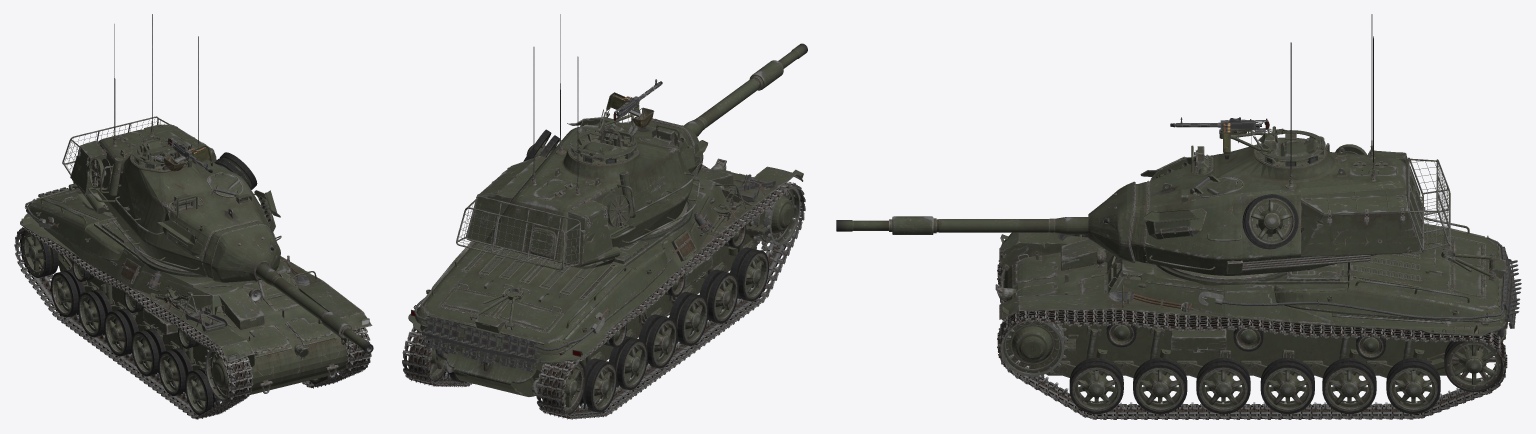
Rendered from Strv_74.obj.
3 views of the same model, side by side, from view 1: azimuth 30°, elevation 25°; view 2: azimuth 150°, elevation 25°; view 3: azimuth 270°, elevation 25° (orthographic). The views are drawn at different scales.
Visible parts, largest first — view 1: vehicle#x_root_79, vehicle#bone_turret_31, vehicle#track_r_3, vehicle#bone_gun_33, vehicle#gun_barrel_34, vehicle#ex_decor_body_r_01_74, vehicle#ex_decor_body_l_01_65, vehicle#wheel_r_04_62, vehicle#wheel_r_03_60, vehicle#wheel_r_02_58, vehicle#wheel_r_back_77, vehicle#ex_decor_02_28 (+23 smaller); view 2: vehicle#x_root_79, vehicle#bone_turret_31, vehicle#track_r_3, vehicle#ex_armor_01_16, vehicle#hatch_08_0, vehicle#ex_decor_05_38, vehicle#hatch_09_24, vehicle#gun_barrel_34, vehicle#wheel_r_drive_4, vehicle#ex_decor_body_r_01_74, vehicle#wheel_r_03_60, vehicle#wheel_r_02_58 (+19 smaller); view 3: vehicle#x_root_79, vehicle#bone_turret_31, vehicle#track_l_2, vehicle#gun_barrel_34, vehicle#wheel_l_drive_5, vehicle#hatch_09_24, vehicle#ex_decor_body_l_01_65, vehicle#bone_gun_33, vehicle#wheel_l_01_54, vehicle#wheel_l_04_71, vehicle#wheel_l_02_52, vehicle#wheel_l_06_69 (+17 smaller).
Part boxes in pixels (x1,y1,x2,y2): vehicle#x_root_79: [20, 183, 348, 394]; vehicle#bone_turret_31: [70, 124, 281, 276]; vehicle#track_r_3: [14, 226, 253, 419]; vehicle#bone_gun_33: [211, 224, 280, 282]; vehicle#gun_barrel_34: [255, 263, 373, 353]; vehicle#ex_decor_body_r_01_74: [133, 288, 257, 367]; vehicle#ex_decor_body_l_01_65: [280, 255, 372, 344]; vehicle#wheel_r_04_62: [104, 308, 138, 356]; vehicle#wheel_r_03_60: [131, 328, 165, 376]; vehicle#wheel_r_02_58: [158, 348, 192, 395]; vehicle#wheel_r_back_77: [21, 230, 58, 277]; vehicle#ex_decor_02_28: [219, 289, 264, 329]; vehicle#x_root_79: [408, 158, 767, 396]; vehicle#bone_turret_31: [467, 105, 702, 268]; vehicle#track_r_3: [536, 182, 805, 419]; vehicle#ex_armor_01_16: [422, 316, 541, 372]; vehicle#hatch_08_0: [511, 259, 617, 313]; vehicle#ex_decor_05_38: [456, 196, 580, 270]; vehicle#hatch_09_24: [454, 245, 545, 296]; vehicle#gun_barrel_34: [684, 43, 807, 136]; vehicle#wheel_r_drive_4: [750, 182, 801, 248]; vehicle#ex_decor_body_r_01_74: [698, 166, 803, 252]; vehicle#wheel_r_03_60: [669, 292, 708, 345]; vehicle#wheel_r_02_58: [699, 269, 738, 323]; vehicle#x_root_79: [995, 217, 1507, 375]; vehicle#bone_turret_31: [1143, 126, 1422, 280]; vehicle#track_l_2: [997, 309, 1507, 419]; vehicle#gun_barrel_34: [836, 216, 1088, 234]; vehicle#wheel_l_drive_5: [997, 315, 1068, 379]; vehicle#hatch_09_24: [1342, 253, 1449, 291]; vehicle#ex_decor_body_l_01_65: [999, 285, 1224, 320]; vehicle#bone_gun_33: [1088, 181, 1135, 262]; vehicle#wheel_l_01_54: [1069, 357, 1123, 414]; vehicle#wheel_l_04_71: [1260, 357, 1314, 414]; vehicle#wheel_l_02_52: [1133, 357, 1187, 414]; vehicle#wheel_l_06_69: [1386, 357, 1440, 414].
Size of the model in its own units: 2.47 by 4.55 by 8.07.
15 materials, 15 textured.
